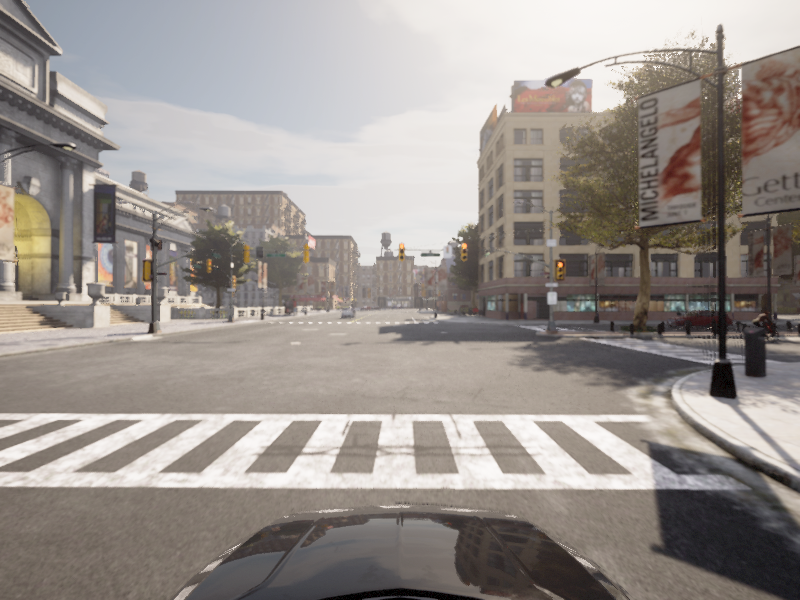vehicle: (662, 310, 736, 329), (742, 310, 784, 342)
